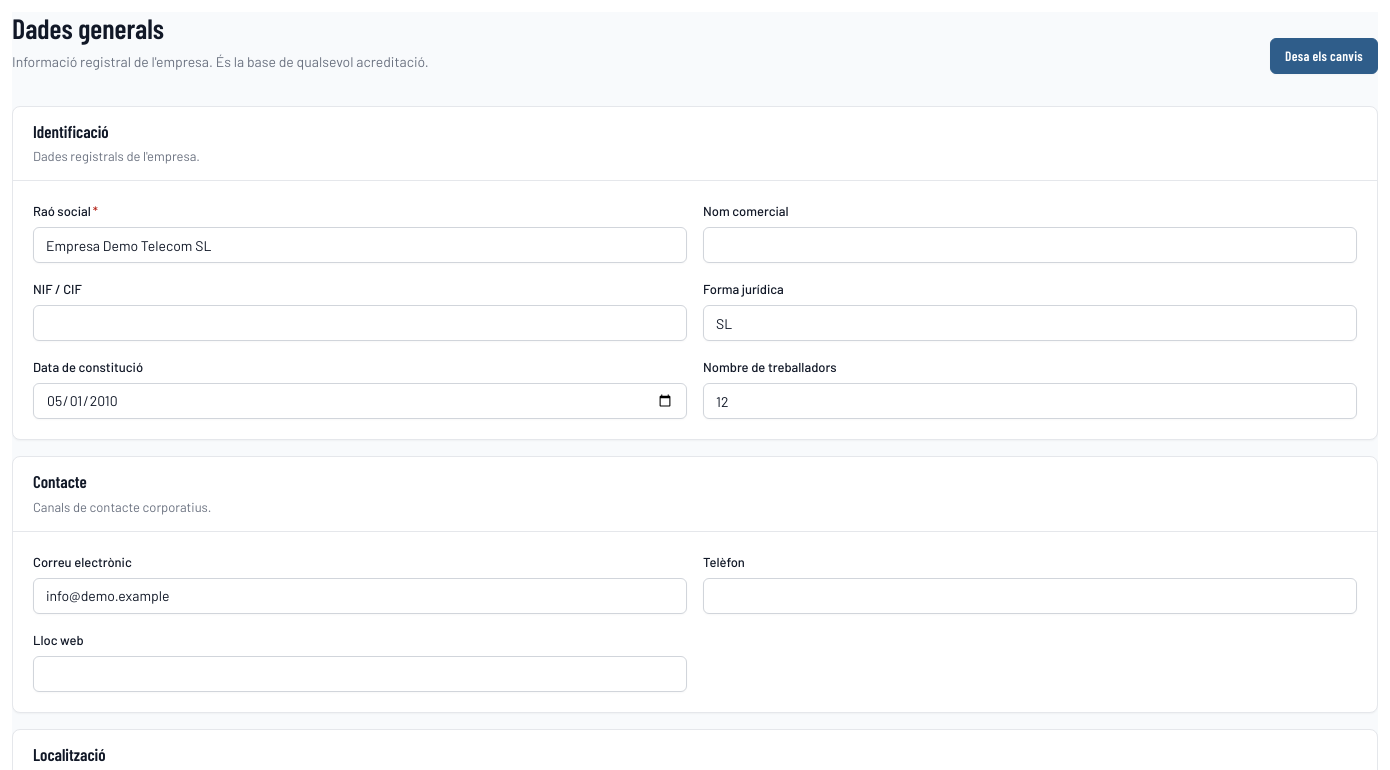
Test case: Dades generals a /empresa/dades › un 403 no amaga «Desa»: el botó queda visible i desactivat amb una nota de permís
Expected: the field labelled "Nom comercial" is shown, [703,227,1357,263]
Click the button "Desa els canvis": (1324, 56) [1270,38,1378,74]
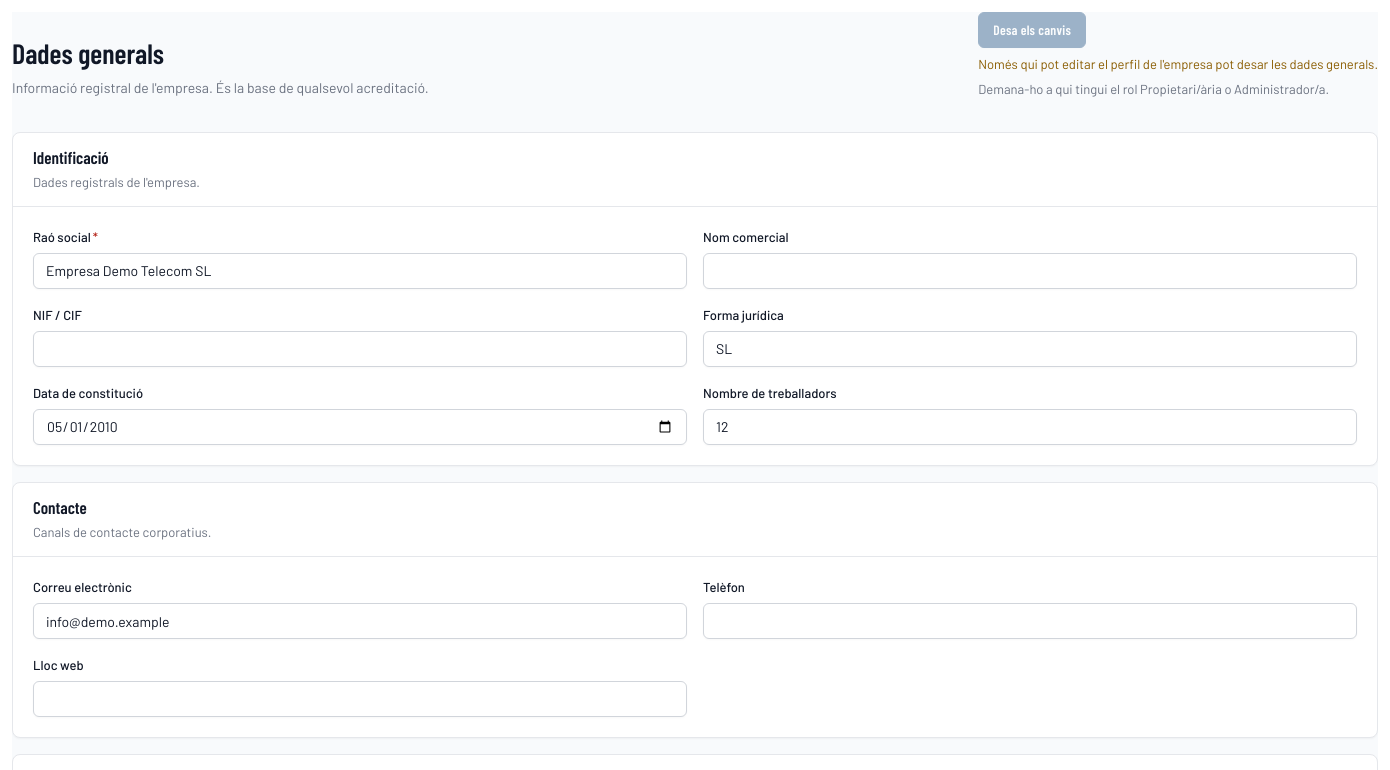
Result: the button "Desa els canvis" is disabled at [978,12,1086,48]
